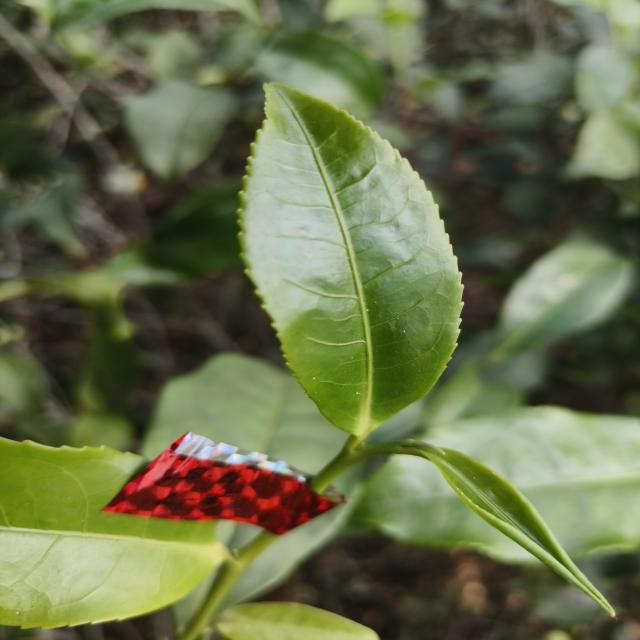Leaf: (240, 83, 462, 441), (0, 438, 226, 628), (419, 447, 614, 615), (425, 406, 640, 557), (141, 352, 346, 472), (354, 456, 537, 563), (493, 238, 633, 358), (256, 30, 383, 119), (123, 80, 236, 179), (426, 360, 524, 427), (217, 602, 379, 640), (566, 109, 640, 180), (491, 52, 569, 104)
